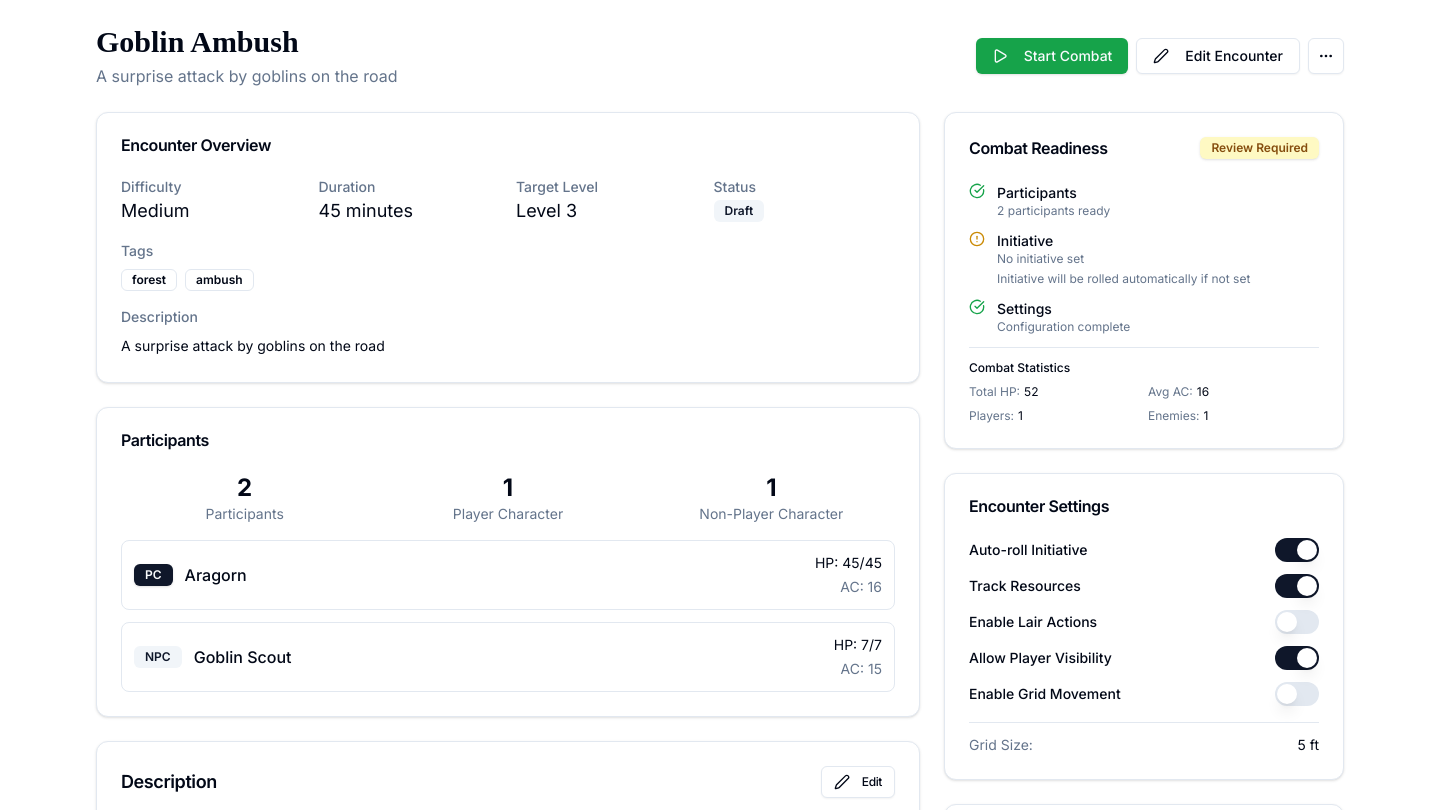
EncounterDetailClient › Action Buttons › should show start combat confirmation
Click the button "Start Combat" at (1052, 56), box [976,38,1128,74]
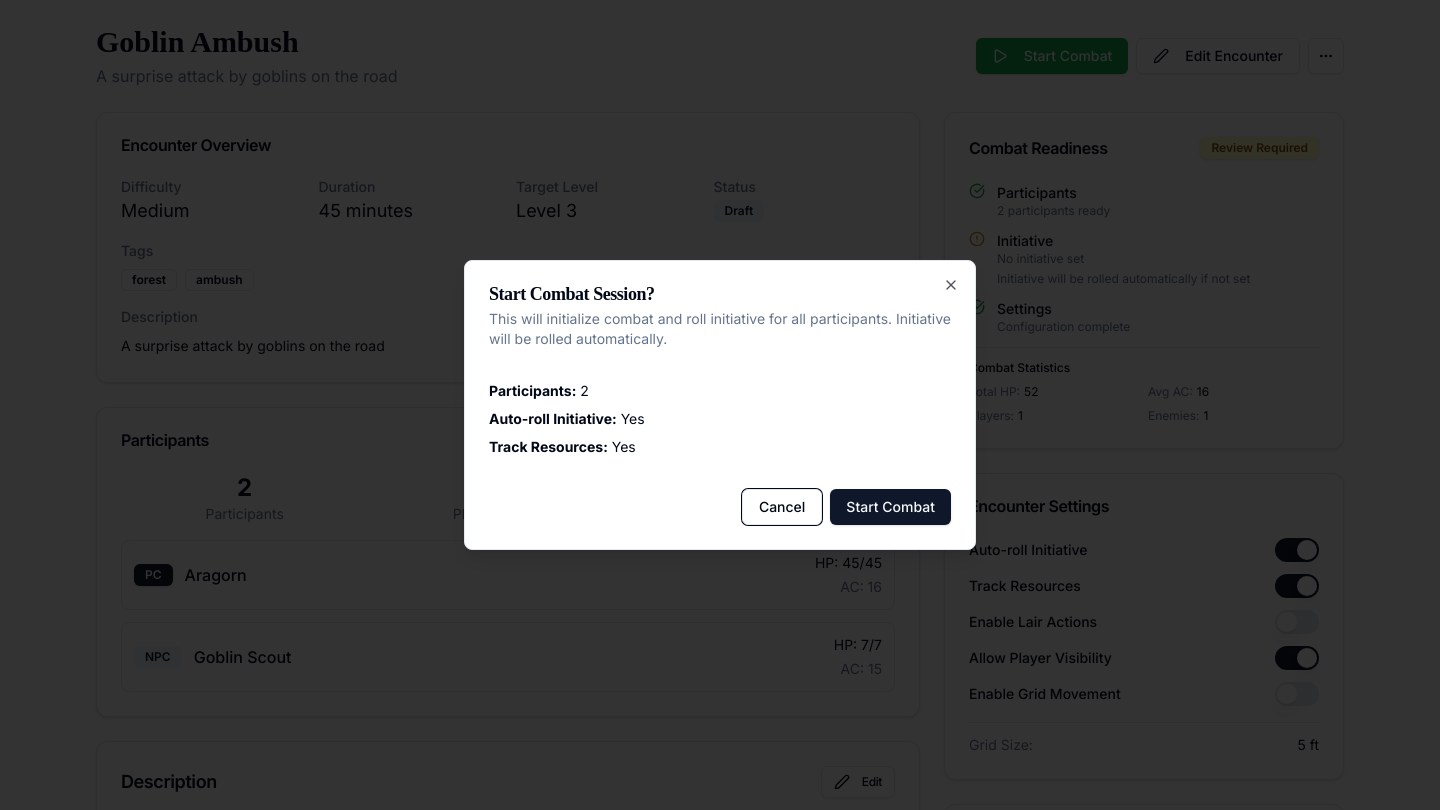
Check: the heading "Start Combat Session?" is shown, box [489,284,655,304]
Check: the text "This will initialize combat and roll initiative for all participants. Initiative will be rolled automatically." is shown, box [489,309,951,349]
